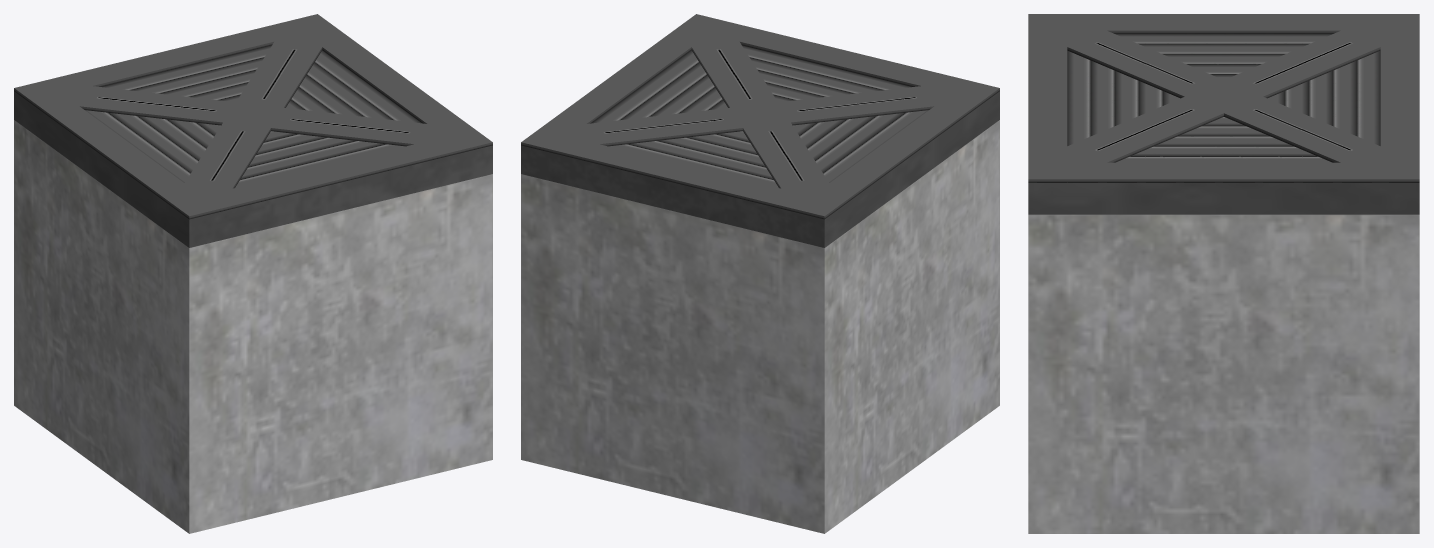
The model's file is tiles_metallic_warehouse_floor.glb.
3 views of the same model, side by side, from view 1: azimuth 30°, elevation 25°; view 2: azimuth 150°, elevation 25°; view 3: azimuth 270°, elevation 25° (orthographic). The views are drawn at different scales.
Visible parts, largest first — view 1: LabFloor; view 2: LabFloor; view 3: LabFloor.
Boxes of the visible parts, left/top/right/bottom form: LabFloor: left=14, top=14, right=492, bottom=533; LabFloor: left=521, top=14, right=999, bottom=533; LabFloor: left=1028, top=14, right=1419, bottom=533.
Bounding box in the file's own units: 2 × 2 × 2.
Materials: 3 (3 with a texture image).
